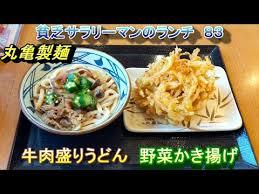kakiage: (134, 48, 219, 123)
niku: (21, 59, 130, 130)
